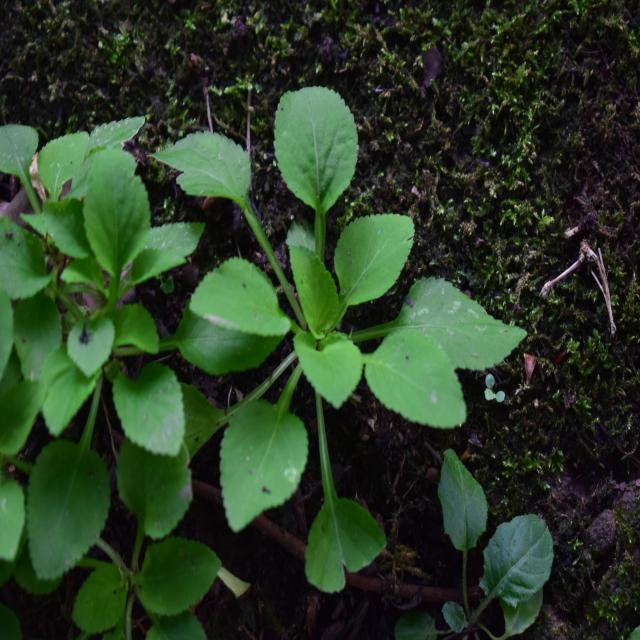Viola: (191, 100, 512, 502), (0, 103, 237, 536)
